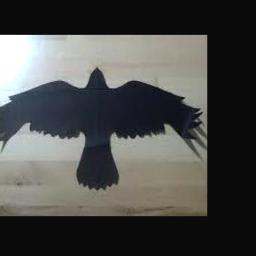Crow: (0, 67, 202, 190)
